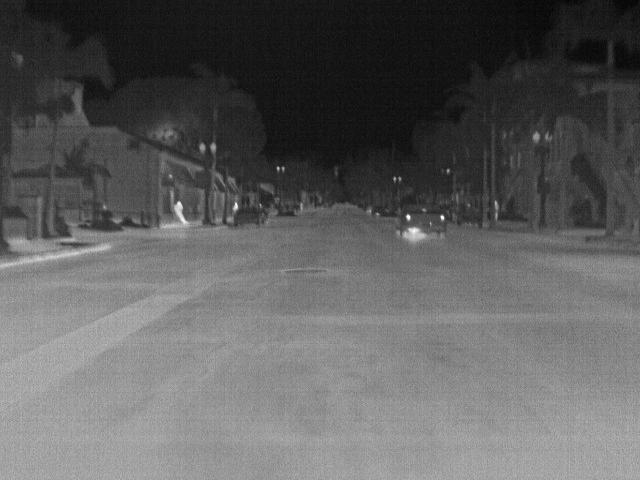car: (395, 203, 448, 242), (233, 205, 268, 228), (365, 204, 374, 216), (376, 206, 386, 216)
person: (176, 199, 184, 221), (495, 198, 501, 223), (233, 200, 240, 213)
